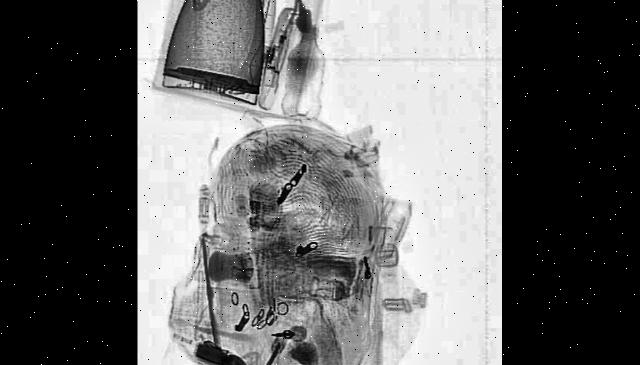Pliers: (223, 346, 292, 365)
